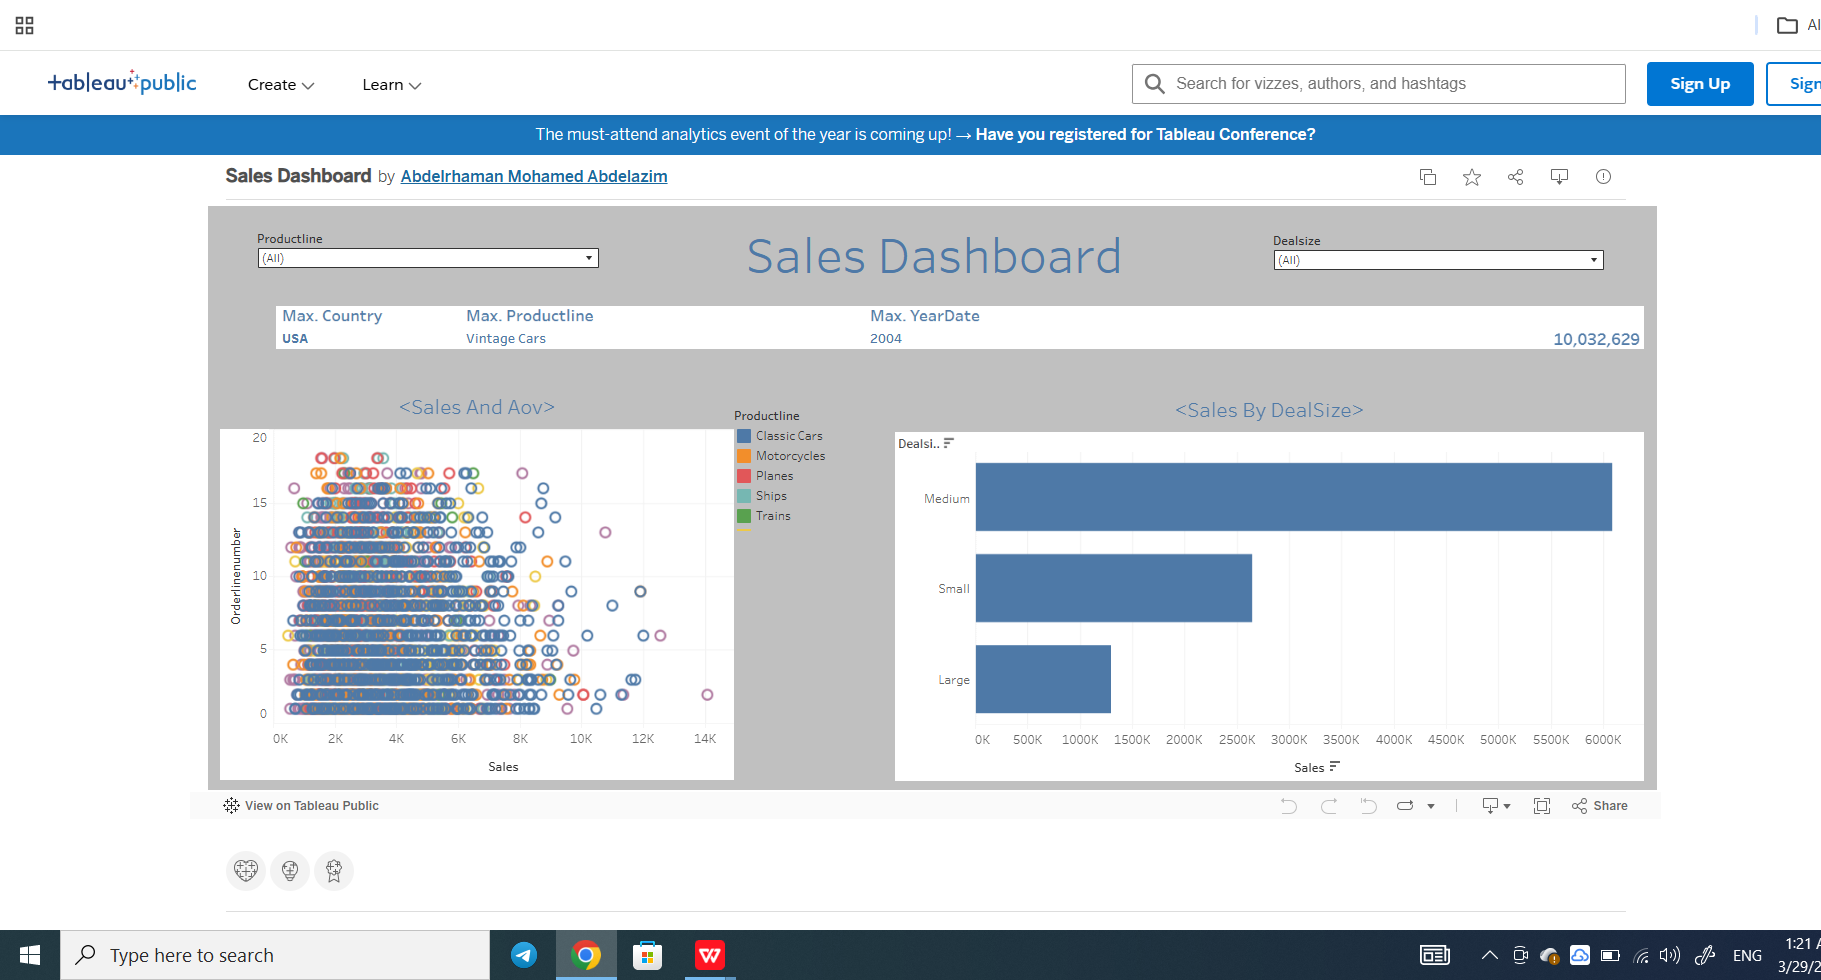

What the dashboard file says about the page in this screenshot:
{"tool":"tableau","page":{"name":"Dashboard 1","canvas":[1000,1000],"units":"permille","ordinal":0},"visuals":[{"type":"text","box":[19.9,19.7,972.8,136.9]},{"type":"filter","title":"Sheet 2","param":"[federated.0cw3q9z1og9hy71bu5tc11uvoa92].[none:PRODUCTLINE:nk]","box":[45.3,49.3,233.6,82.6]},{"type":"filter","title":"Sheet 3","param":"[federated.0cw3q9z1og9hy71bu5tc11uvoa92].[none:DEALSIZE:nk]","box":[736.3,51.8,225.7,86.3]},{"type":"worksheet","title":"Sheet 2","mark":"Automatic","rows":["ORDERLINENUMBER"],"cols":["SALES"],"box":[20.5,314.4,349.4,665.8]},{"type":"worksheet","title":"Sheet 3","mark":"Automatic","rows":["DEALSIZE"],"cols":["SALES"],"box":[479.2,319.4,509.4,662.1]},{"type":"legend","title":"Sheet 2","param":"[federated.0cw3q9z1og9hy71bu5tc11uvoa92].[none:PRODUCTLINE:nk]","box":[369.9,350.2,89.9,208.4]}]}

Visuals, with their boxes on the dashboard's canvas, which has no fixed pixel size, in thousandths of its width and height (x1, y1, x2, y2). These are canvas units, not pixel positions in the 1821x980 screenshot, which may show the page scaled, cropped or inside an application window:
text: x1=20 y1=20 x2=993 y2=157
"Sheet 2" filter: x1=45 y1=49 x2=279 y2=132
"Sheet 3" filter: x1=736 y1=52 x2=962 y2=138
"Sheet 2" worksheet: x1=20 y1=314 x2=370 y2=980
"Sheet 3" worksheet: x1=479 y1=319 x2=989 y2=982
"Sheet 2" legend: x1=370 y1=350 x2=460 y2=559
